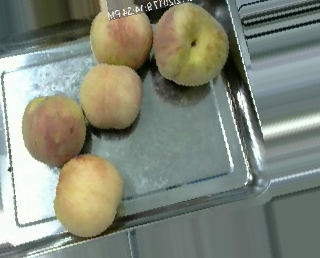Peach: (152, 2, 230, 86), (53, 154, 123, 237), (21, 94, 85, 167), (89, 5, 153, 71), (79, 63, 142, 130)
